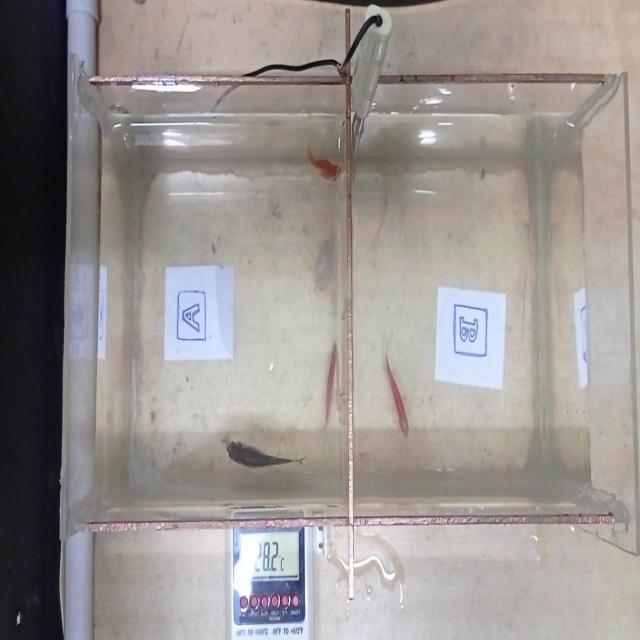Fish A1: (221, 432, 315, 476)
Fish A2: (303, 133, 344, 204)
Fish A3: (322, 322, 344, 444)
Fish B: (378, 336, 423, 456)
